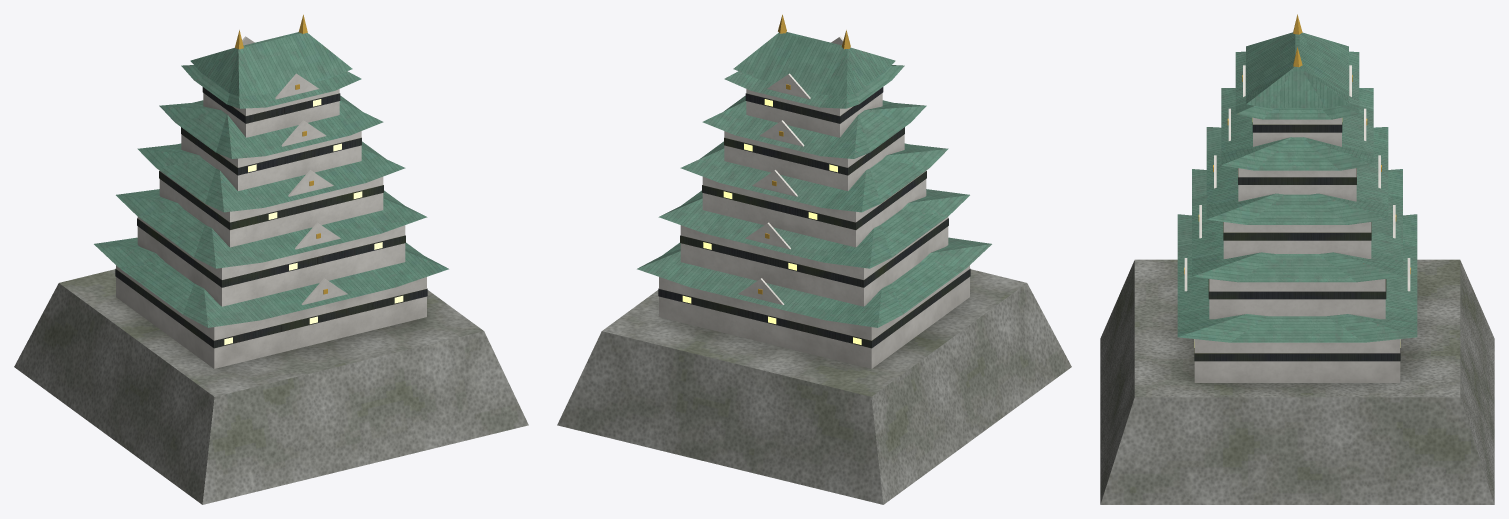
The model's file is slott_tex.glb.
The picture shows the model from 3 angles, left to right: view 1: azimuth 30°, elevation 25°; view 2: azimuth 150°, elevation 25°; view 3: azimuth 270°, elevation 25°; orthographic projection. The views are drawn at different scales.
Visible parts, largest first — view 1: slott; view 2: slott; view 3: slott.
Part boxes in pixels (<box>): slott: <box>14,14,528,504</box>; slott: <box>557,14,1071,504</box>; slott: <box>1100,14,1494,504</box>.
Bounding box in the file's own units: 45.99 × 50.4 × 45.99.
6 materials, 4 textured.
